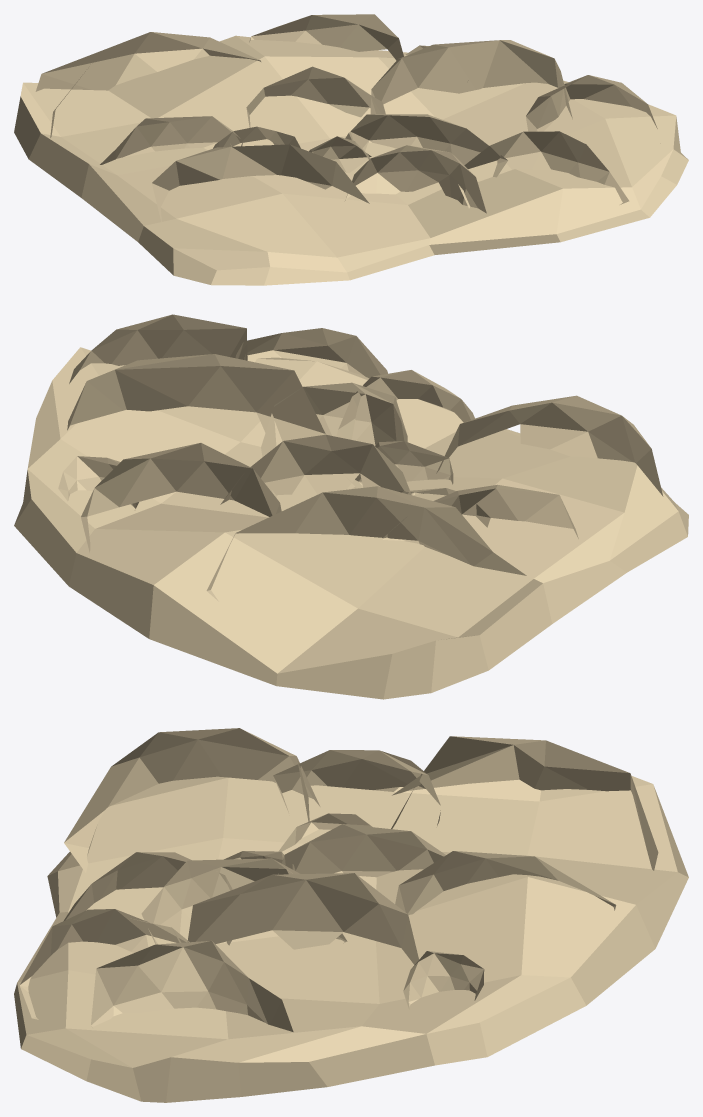
3 views of the same model, one above another, from view 1: azimuth 30°, elevation 25°; view 2: azimuth 150°, elevation 25°; view 3: azimuth 270°, elevation 25° (orthographic). The views are drawn at different scales.
Visible parts, largest first — view 1: PU Schaum; view 2: PU Schaum; view 3: PU Schaum.
Boxes of the visible parts, box(x1,y1,x2,y2) form: PU Schaum: box(14, 14, 688, 285); PU Schaum: box(14, 314, 688, 699); PU Schaum: box(14, 728, 688, 1102).
Size of the model in its own units: 0.3541 by 0.0681 by 0.3334.
